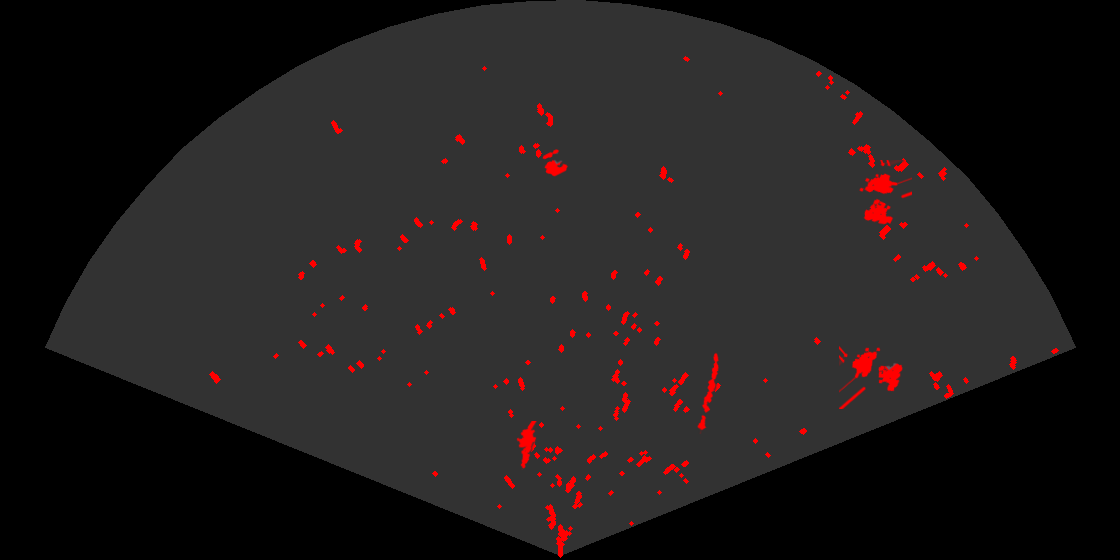ball: (541, 148, 570, 178)
cage: (839, 344, 904, 409), (858, 160, 912, 226)
chain: (696, 351, 720, 434)
frogman: (515, 421, 539, 470)
